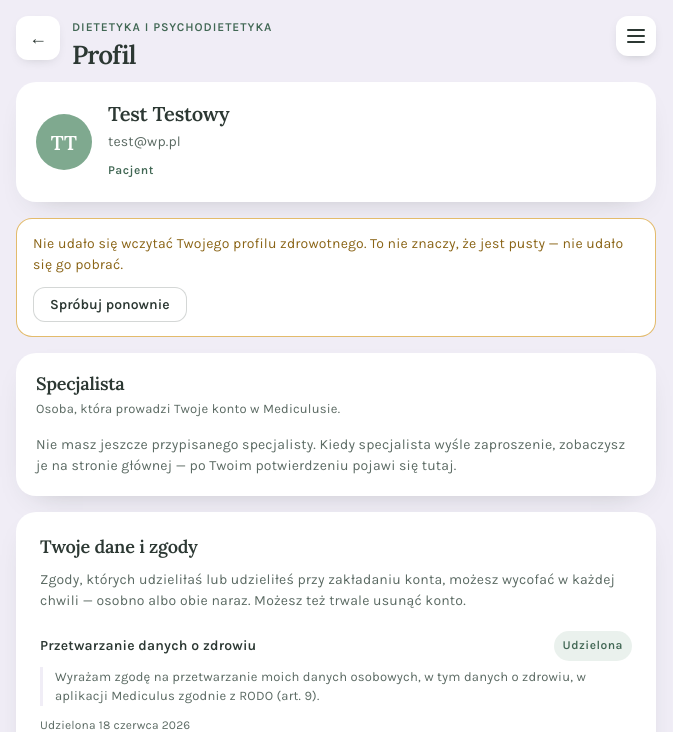
Test: a load that failed is not drawn as an empty profile › offers a way to try again, and the fields come back when it works
The image size is (673, 732).
Expected: the message is shown, [16,218,656,337]
Step 1. Click the button "Spróbuj ponownie" → (110, 305), box [33,287,186,322]
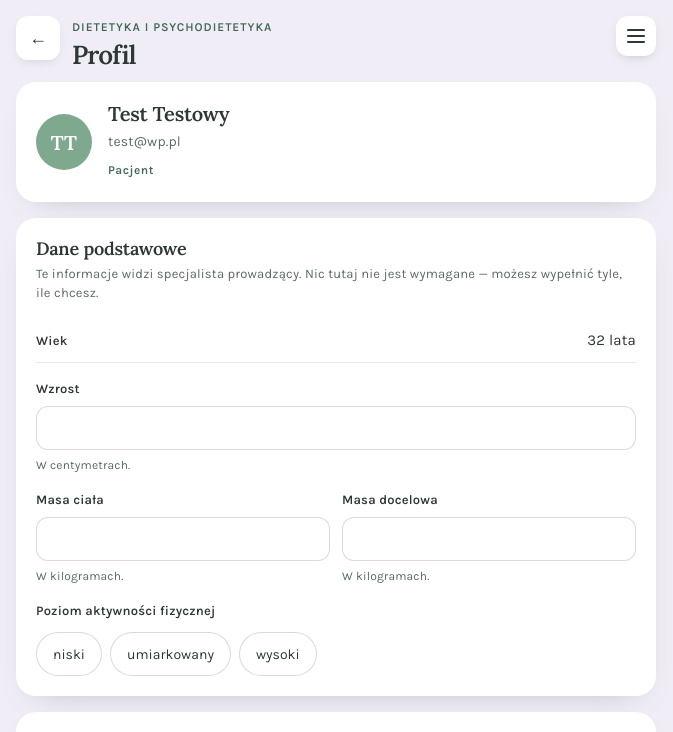
Now the field labelled "Wzrost" is empty, box [36,406,636,450]
Now the text "Nie udało się wczytać Twojego profilu" is gone
